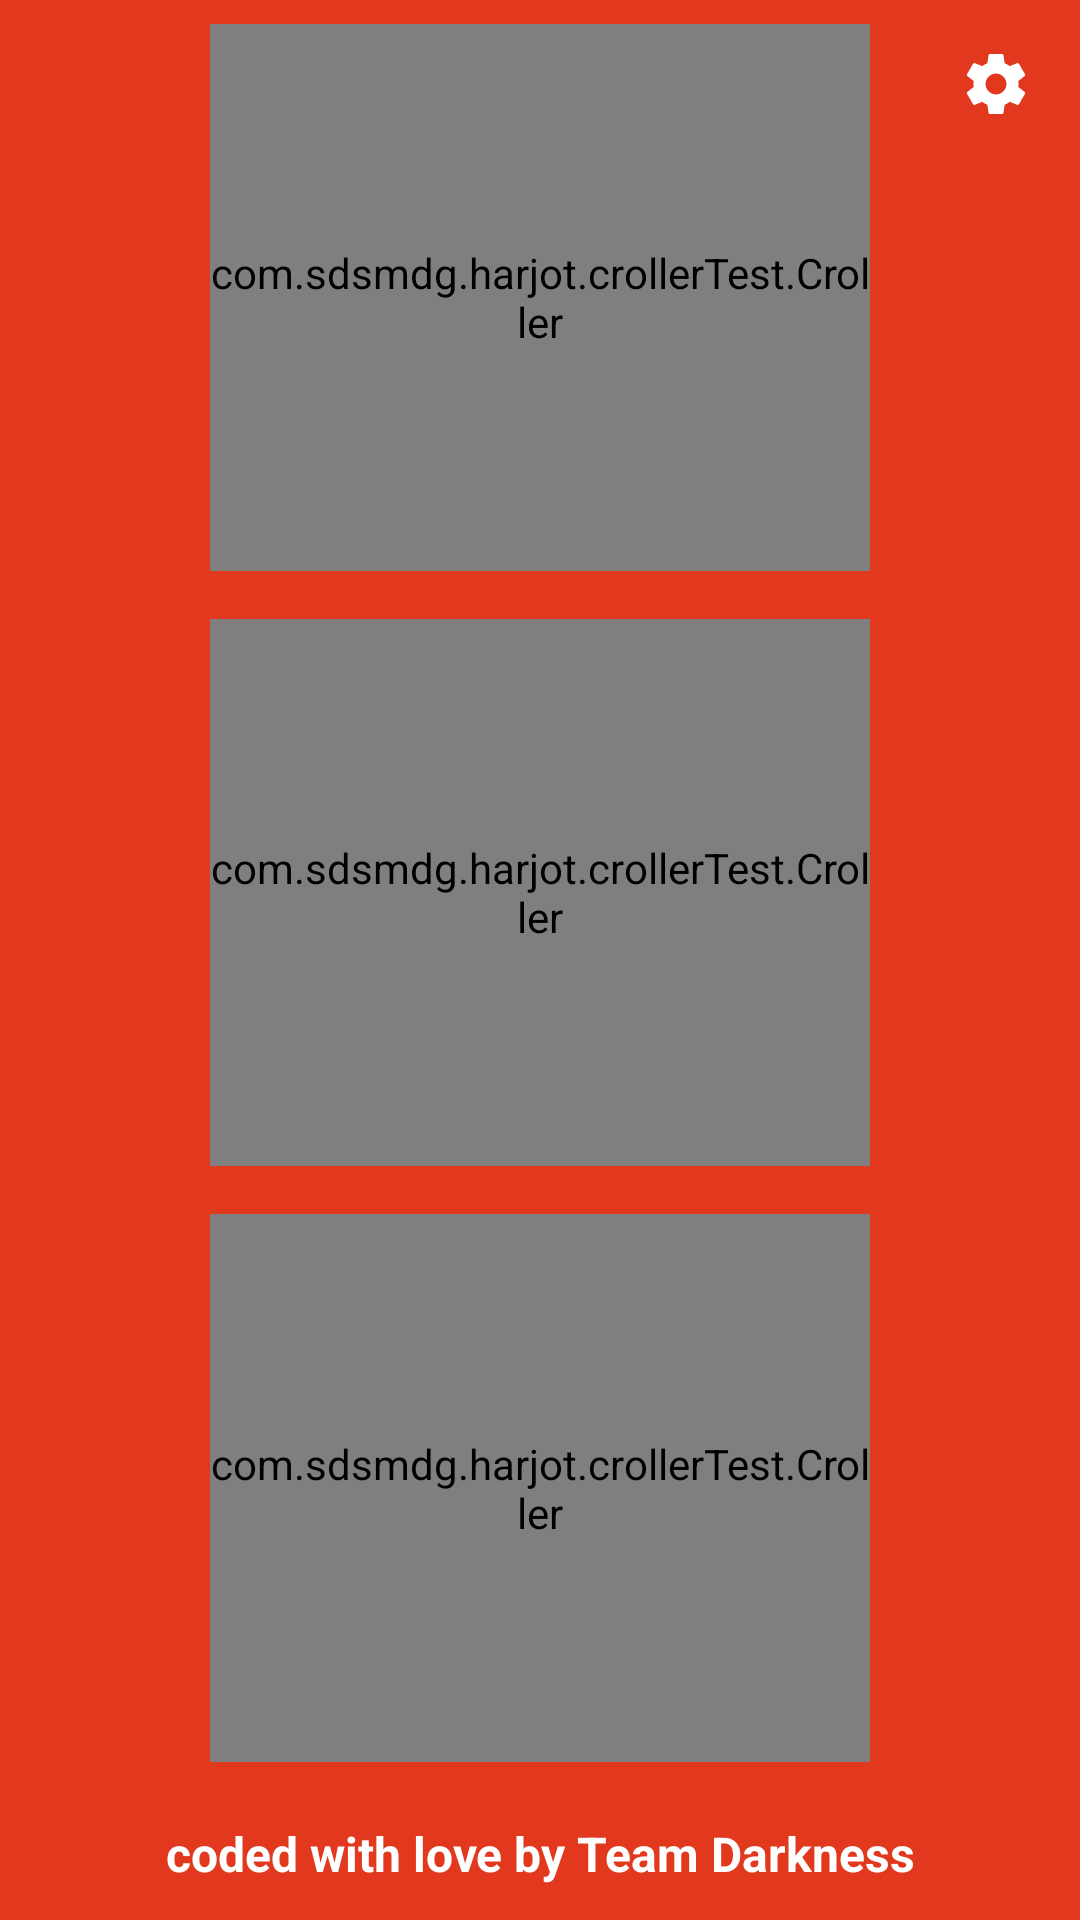

Icon click points for this 1080*1920 phone screenshot, format (x,y):
settings: (995,84)
